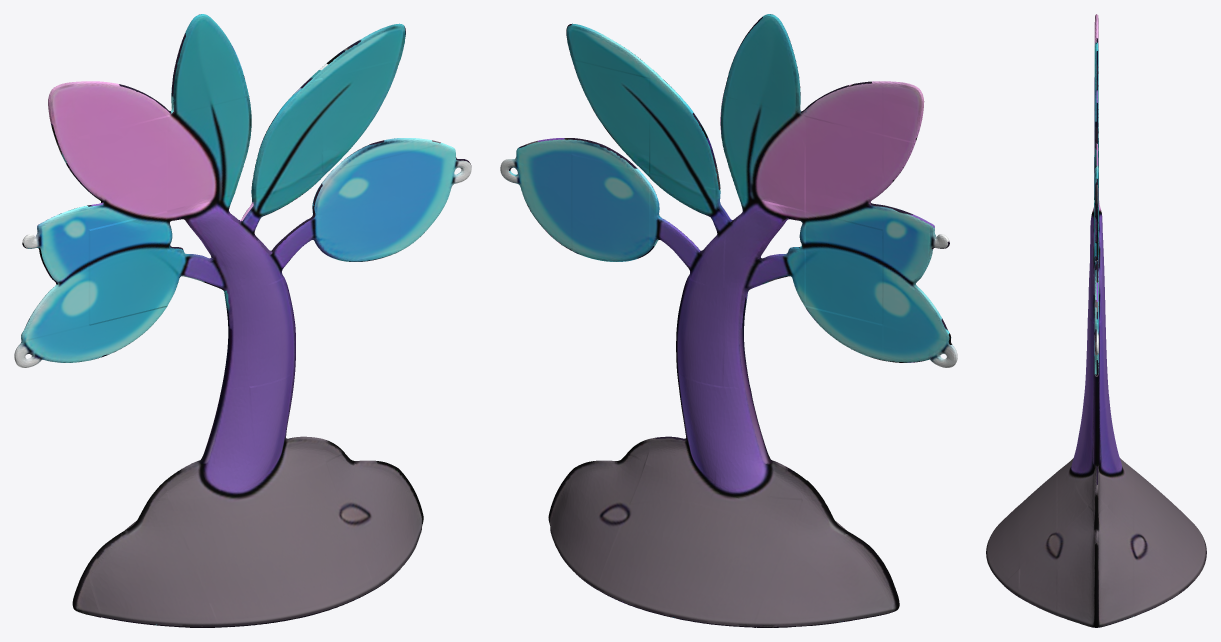
The model's file is alien_plant.glb.
3 views of the same model, side by side, from view 1: azimuth 30°, elevation 25°; view 2: azimuth 150°, elevation 25°; view 3: azimuth 270°, elevation 25° (orthographic). The views are drawn at different scales.
Parts seen in each view (by area): view 1: tmp9v6w8h2f.ply; view 2: tmp9v6w8h2f.ply; view 3: tmp9v6w8h2f.ply.
Boxes of the visible parts, bbox=[...] form: tmp9v6w8h2f.ply: bbox=[14, 14, 471, 627]; tmp9v6w8h2f.ply: bbox=[500, 14, 957, 627]; tmp9v6w8h2f.ply: bbox=[986, 14, 1206, 627].
Size of the model in its own units: 1.68 by 1.99 by 0.8114.
1 material, 1 textured.
